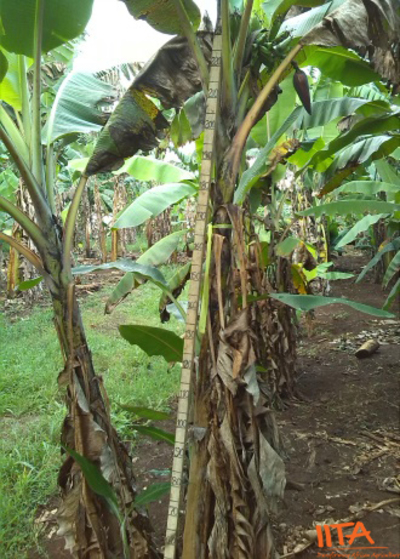bananaHand: (239, 23, 298, 76)
